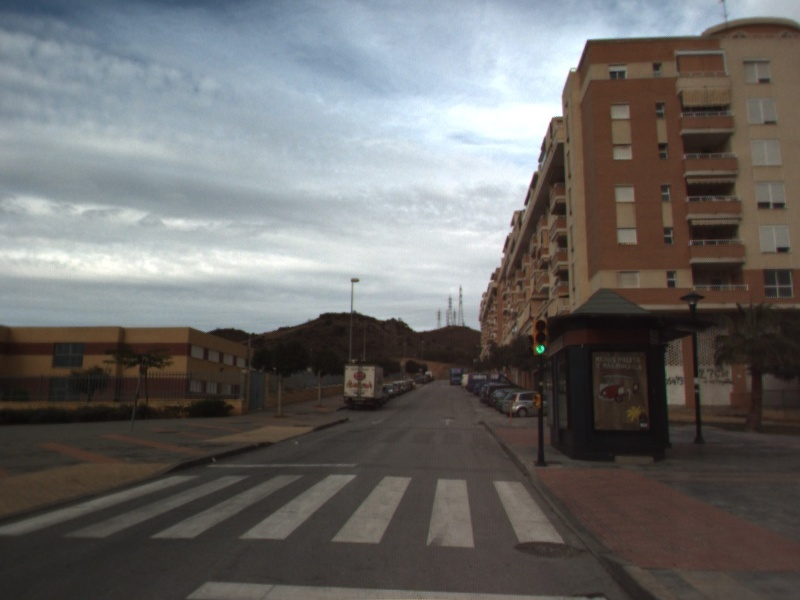STRAIGHT: (440, 416, 457, 427)
